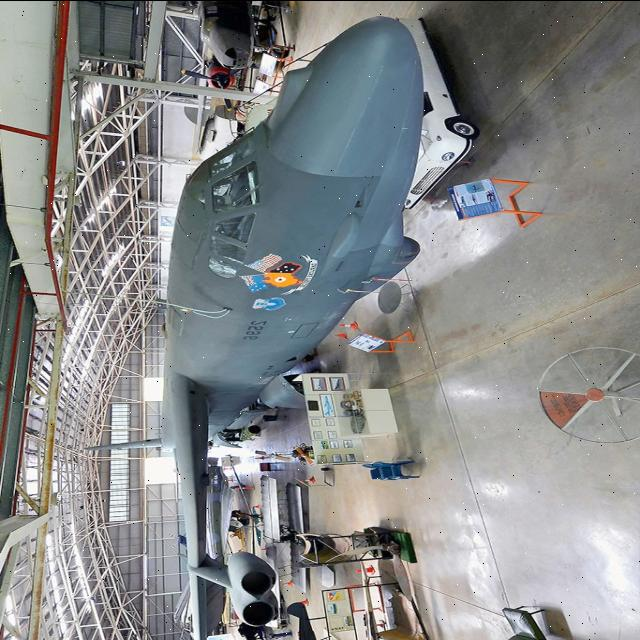B52: (133, 10, 481, 640)
